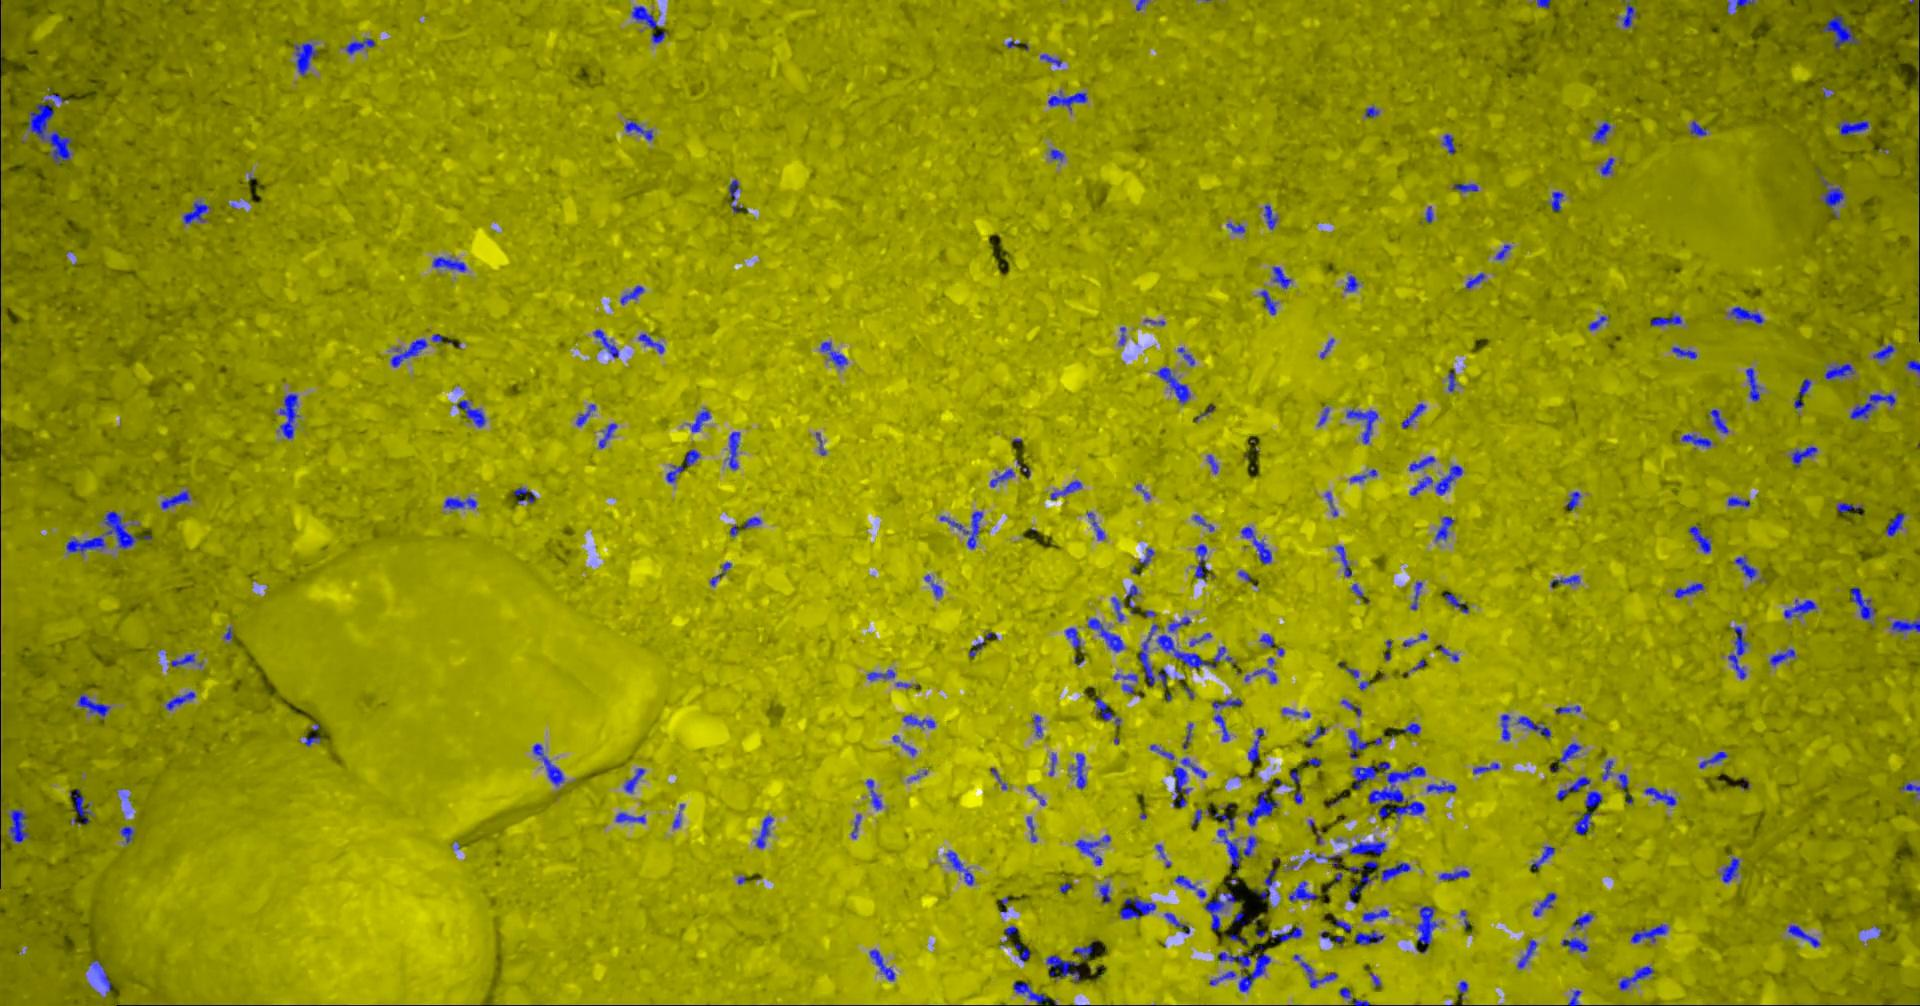ant: (65, 511, 151, 553), (1156, 634, 1234, 671), (1213, 812, 1256, 870), (1217, 950, 1270, 991), (1171, 758, 1206, 807), (938, 511, 982, 549), (1410, 465, 1462, 495), (630, 5, 667, 43), (1820, 15, 1859, 48), (532, 743, 563, 785), (1138, 622, 1158, 685), (1087, 617, 1124, 652), (1849, 392, 1895, 419), (1156, 366, 1189, 403), (1204, 890, 1236, 929), (1239, 526, 1271, 563), (1246, 789, 1277, 826), (665, 448, 698, 481), (1727, 626, 1747, 680), (390, 338, 427, 367), (1346, 409, 1377, 443), (1076, 835, 1110, 865), (943, 850, 973, 885), (1416, 904, 1437, 951), (1300, 960, 1336, 987), (1046, 954, 1081, 981), (1550, 742, 1581, 771), (279, 392, 298, 438), (1618, 965, 1653, 989), (1012, 981, 1048, 1005), (1119, 895, 1156, 918), (1850, 586, 1876, 619), (77, 694, 110, 719), (1556, 776, 1590, 800), (456, 399, 485, 427), (869, 949, 894, 981), (293, 42, 317, 75), (1821, 180, 1843, 217), (1516, 715, 1550, 738), (69, 789, 91, 823), (1787, 923, 1818, 948), (89, 959, 110, 993), (1048, 90, 1086, 109), (8, 809, 29, 842), (820, 340, 847, 367), (593, 329, 618, 357), (1095, 697, 1120, 725), (1373, 862, 1410, 882), (1630, 923, 1667, 942), (1175, 874, 1205, 897), (1349, 874, 1371, 903), (182, 201, 210, 224), (1688, 525, 1710, 553), (1783, 600, 1816, 619), (1255, 868, 1275, 898), (1644, 786, 1676, 805), (1338, 986, 1370, 1005), (623, 118, 651, 140), (1728, 306, 1764, 323), (1247, 727, 1263, 762), (1401, 403, 1425, 427), (1531, 892, 1556, 916), (1050, 480, 1081, 499), (1529, 846, 1554, 869), (1288, 880, 1316, 901), (1745, 367, 1761, 401), (160, 490, 189, 509), (1349, 729, 1368, 758), (1517, 939, 1537, 968), (709, 561, 731, 586), (637, 333, 664, 353), (1790, 446, 1817, 466), (165, 691, 196, 709), (1335, 544, 1351, 575), (756, 815, 772, 847), (1192, 544, 1208, 578), (1735, 556, 1757, 579), (1164, 912, 1189, 934), (1086, 511, 1103, 540), (623, 767, 644, 793), (865, 779, 881, 809), (1269, 926, 1302, 941), (1699, 751, 1727, 768), (1112, 673, 1137, 694), (1836, 119, 1868, 135), (1709, 408, 1728, 433), (598, 423, 617, 448), (1434, 516, 1453, 541), (1443, 593, 1468, 612), (1244, 668, 1276, 683), (345, 38, 375, 55), (1793, 379, 1810, 408), (432, 257, 466, 271), (1070, 753, 1084, 788), (1769, 648, 1796, 666), (1349, 841, 1385, 854), (688, 409, 710, 431), (1823, 363, 1854, 379), (728, 179, 742, 212), (989, 467, 1013, 486), (1719, 857, 1738, 882), (1681, 433, 1710, 448), (1617, 774, 1632, 803), (1672, 583, 1704, 597), (1213, 714, 1229, 741), (575, 404, 596, 426), (620, 285, 643, 304), (728, 431, 739, 469), (1884, 512, 1903, 535), (1592, 119, 1610, 144), (1258, 290, 1276, 314), (1354, 930, 1384, 944), (1408, 455, 1434, 471), (1072, 940, 1093, 959), (1272, 265, 1290, 288), (1575, 812, 1592, 835), (1650, 314, 1681, 326), (903, 714, 935, 727), (1309, 854, 1341, 866), (1305, 725, 1324, 746), (1149, 744, 1175, 760), (924, 574, 942, 596), (1872, 343, 1895, 359), (443, 497, 476, 508), (1622, 0, 1636, 27), (1561, 937, 1587, 951), (1209, 970, 1236, 984), (1890, 620, 1919, 633), (1426, 780, 1455, 793), (1437, 869, 1469, 880), (1340, 699, 1360, 716), (513, 486, 535, 503), (1726, 0, 1754, 13), (1349, 469, 1377, 481), (1550, 574, 1578, 587), (1402, 633, 1427, 647), (1167, 616, 1190, 631), (1347, 860, 1378, 871), (1321, 930, 1343, 945), (1192, 514, 1213, 531), (1125, 584, 1137, 614), (1671, 345, 1697, 358), (1410, 580, 1421, 608), (1189, 633, 1211, 647), (1465, 272, 1484, 288), (1064, 627, 1079, 648), (615, 812, 645, 822), (1572, 913, 1592, 929), (1263, 205, 1276, 229), (170, 653, 194, 666), (1472, 762, 1498, 774), (1177, 347, 1194, 365), (1138, 547, 1154, 565), (968, 638, 984, 655), (1583, 790, 1601, 807), (1039, 53, 1062, 66), (1564, 492, 1580, 511), (1363, 909, 1388, 921), (866, 669, 894, 680), (1111, 597, 1123, 621), (1500, 714, 1510, 741), (1587, 315, 1606, 329), (1015, 942, 1029, 962), (1211, 699, 1241, 708), (1836, 502, 1862, 512), (1026, 815, 1036, 841), (1689, 119, 1705, 135), (1600, 158, 1614, 175), (1281, 708, 1309, 716), (1230, 906, 1244, 923), (1441, 133, 1454, 152), (1550, 191, 1563, 210), (1401, 721, 1420, 734), (1495, 244, 1510, 259), (1601, 760, 1613, 780), (1898, 782, 1919, 794), (119, 826, 132, 843), (1335, 918, 1352, 931), (1727, 495, 1749, 506), (1098, 883, 1110, 902), (1343, 276, 1357, 291), (742, 516, 759, 527), (1905, 359, 1919, 373), (1258, 633, 1272, 647), (1451, 183, 1477, 191), (1225, 222, 1244, 232), (1206, 453, 1217, 473), (1157, 668, 1167, 687), (1567, 989, 1580, 1005), (1556, 705, 1580, 713), (1032, 715, 1041, 735), (1049, 149, 1063, 161), (303, 735, 320, 746), (1448, 370, 1455, 391), (1364, 105, 1378, 117), (1423, 206, 1432, 224), (1537, 0, 1550, 8)
